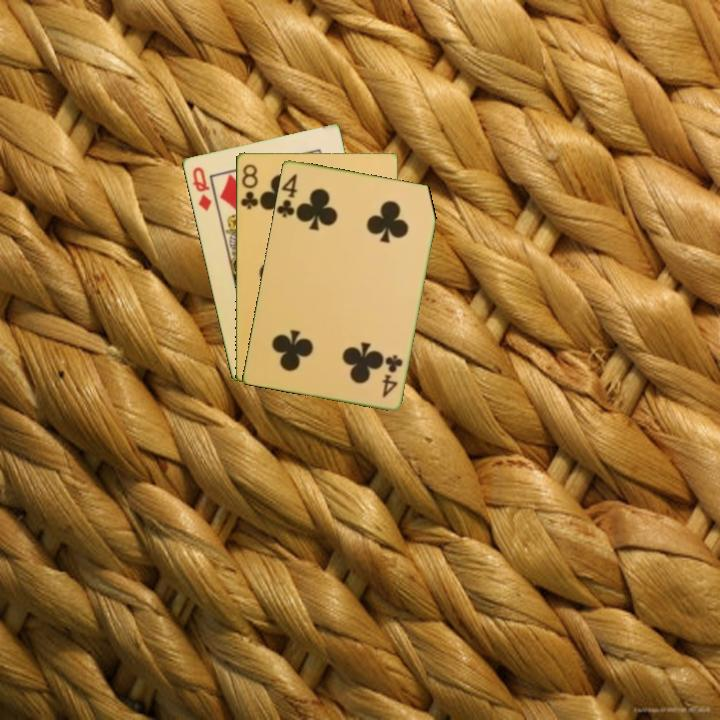4c: (274, 170, 300, 220), (379, 351, 405, 400)
8c: (237, 161, 260, 212)
Qd: (188, 163, 214, 214)
